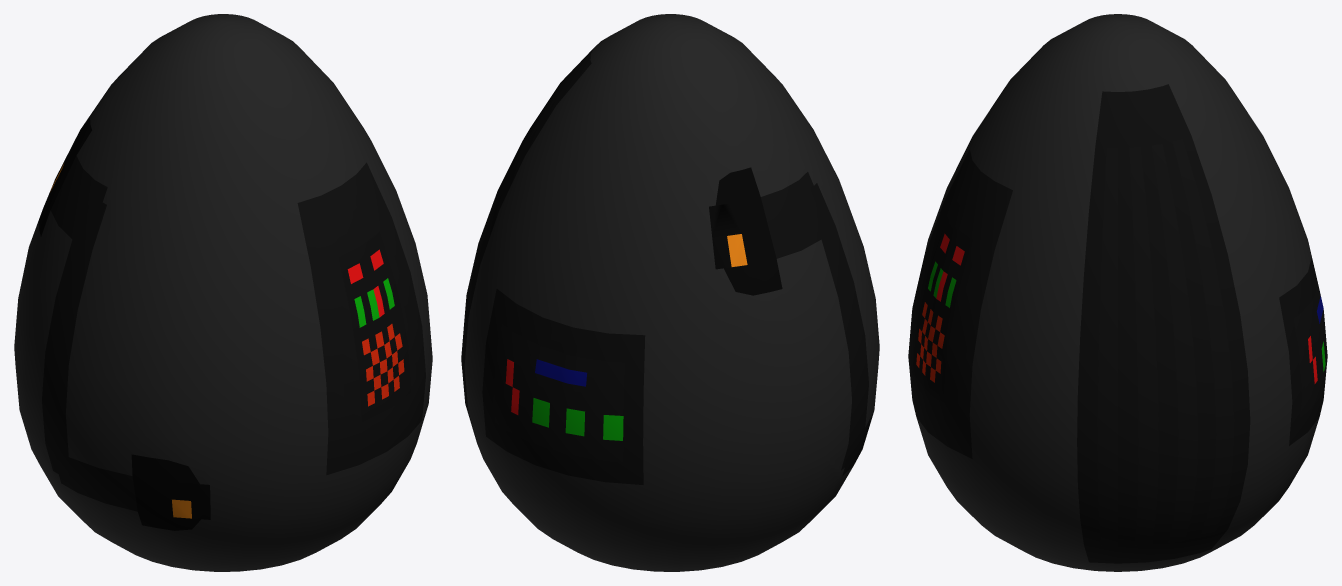
The model's file is Egg_Robot.FBX.
The picture shows the model from 3 angles, left to right: view 1: azimuth 30°, elevation 25°; view 2: azimuth 150°, elevation 25°; view 3: azimuth 270°, elevation 25°; orthographic projection.
Parts seen in each view (by area): view 1: Sphere005; view 2: Sphere005; view 3: Sphere005.
Part boxes in pixels (left/top/right/bottom): Sphere005: left=14, top=14, right=432, bottom=571; Sphere005: left=461, top=14, right=879, bottom=571; Sphere005: left=908, top=14, right=1327, bottom=571.
Size of the model in its own units: 56.03 by 56.03 by 77.86.
